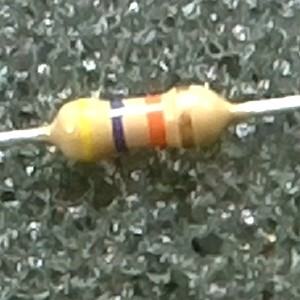gold_band: (173, 83, 200, 151)
orange_band: (143, 93, 168, 151)
violet_band: (108, 95, 130, 159)
yellow_band: (74, 97, 97, 165)
